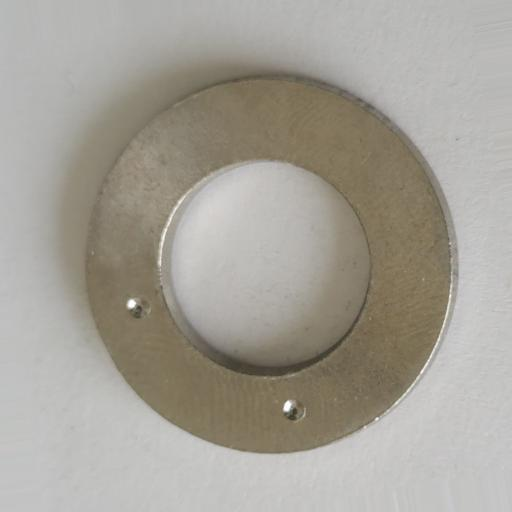circular_cavity: (281, 398, 307, 423), (125, 295, 150, 317)
